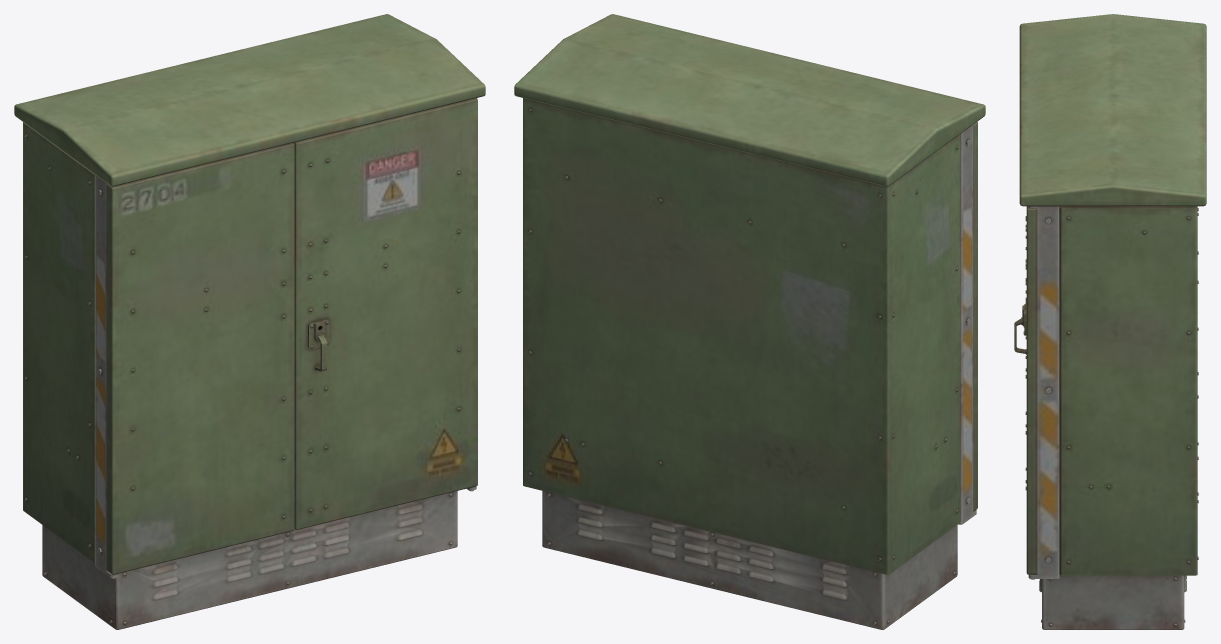
Rendered from utility_box_02.glb.
The picture shows the model from 3 angles, left to right: view 1: azimuth 30°, elevation 25°; view 2: azimuth 150°, elevation 25°; view 3: azimuth 270°, elevation 25°; orthographic projection. The views are drawn at different scales.
Visible parts, largest first — view 1: utility_box_02; view 2: utility_box_02; view 3: utility_box_02.
Part boxes in pixels (x1,y1,x2,y2): utility_box_02: (14,14,485,629); utility_box_02: (514,14,985,629); utility_box_02: (1014,14,1206,629).
Size of the model in its own units: 0.92 by 1.12 by 0.432.
1 material, 1 textured.
